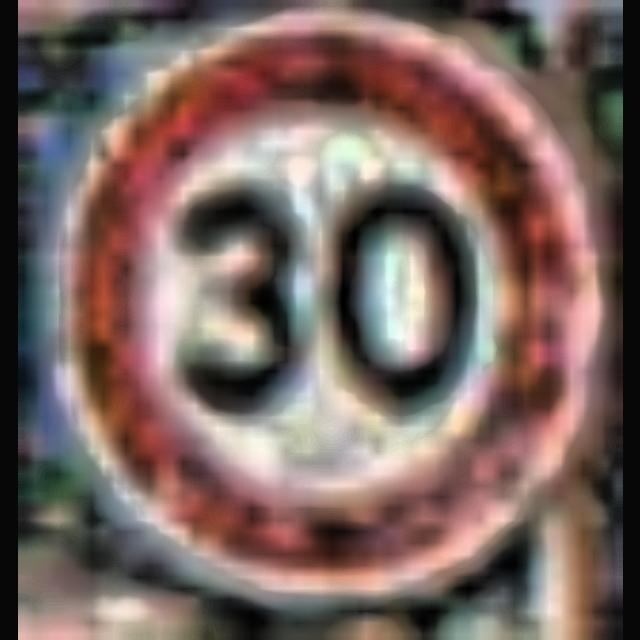speed_30: (18, 0, 622, 640)
